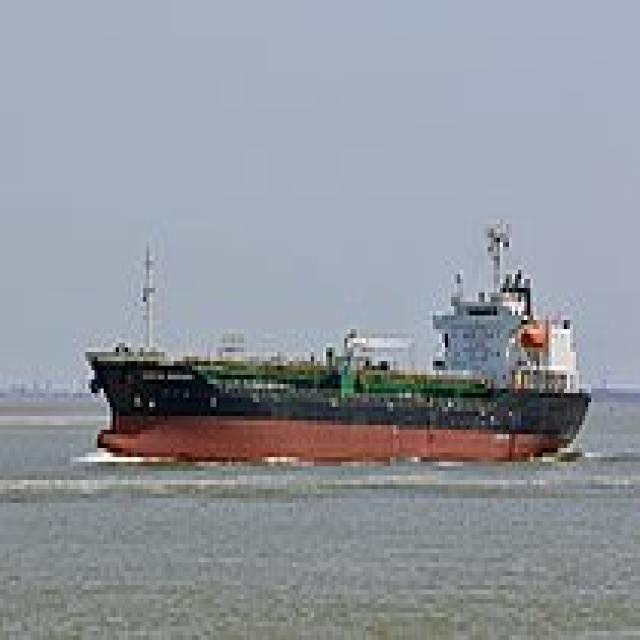Tanker: (79, 210, 588, 462)
